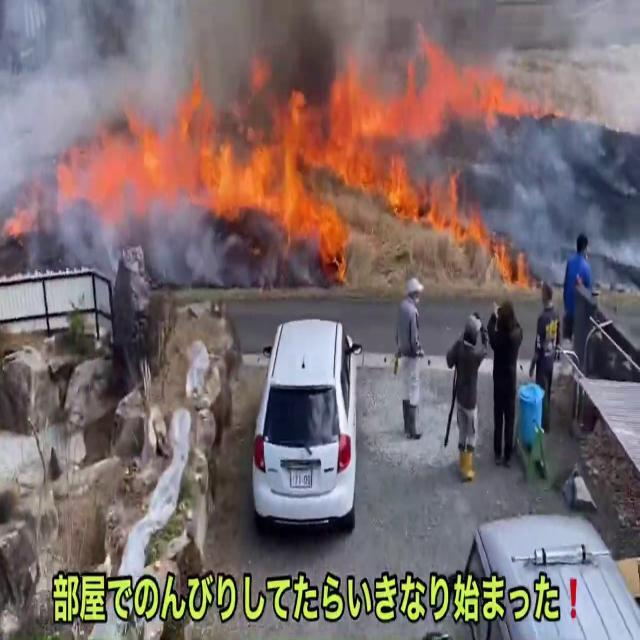Fire: (62, 26, 524, 268)
Smoke: (0, 0, 140, 265)
